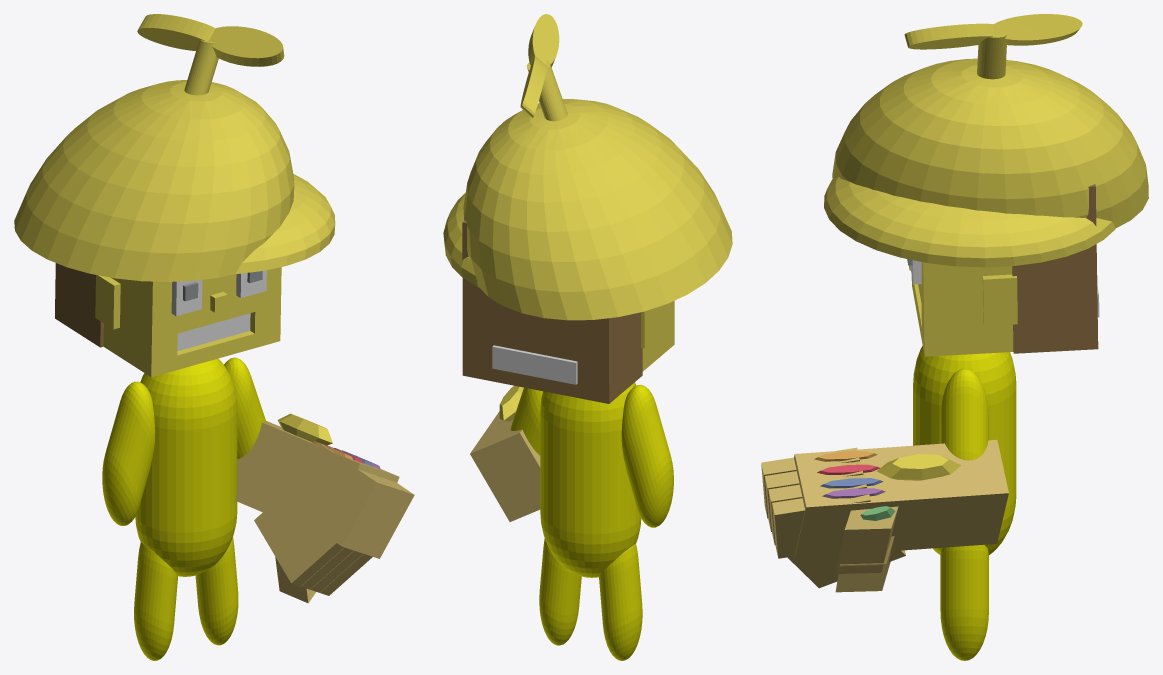
File: Daring Amberis-Rottis.glb
The picture shows the model from 3 angles, left to right: view 1: azimuth 30°, elevation 25°; view 2: azimuth 150°, elevation 25°; view 3: azimuth 270°, elevation 25°; orthographic projection. The views are drawn at different scales.
Parts seen in each view (by area): view 1: Mesh_Mesh_head_geo.001_lambert2SG.001; view 2: Mesh_Mesh_head_geo.001_lambert2SG.001; view 3: Mesh_Mesh_head_geo.001_lambert2SG.001.
Boxes of the visible parts, x1,y1,x2,y2 form: Mesh_Mesh_head_geo.001_lambert2SG.001: [14, 14, 414, 660]; Mesh_Mesh_head_geo.001_lambert2SG.001: [443, 14, 732, 660]; Mesh_Mesh_head_geo.001_lambert2SG.001: [761, 14, 1148, 660].
Size of the model in its own units: 27.99 by 59.75 by 32.22.
